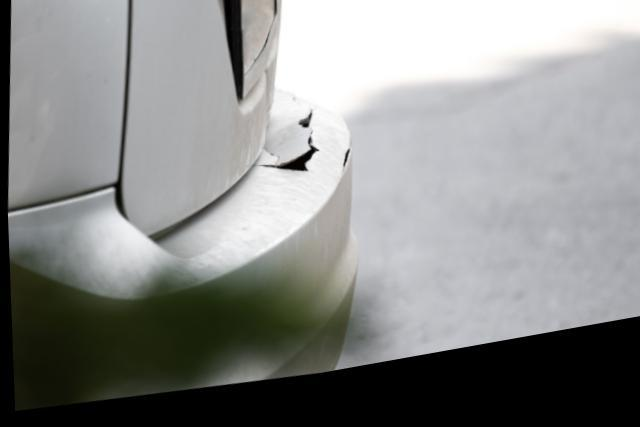crack: (244, 119, 317, 183), (244, 0, 278, 84), (340, 159, 350, 183)
